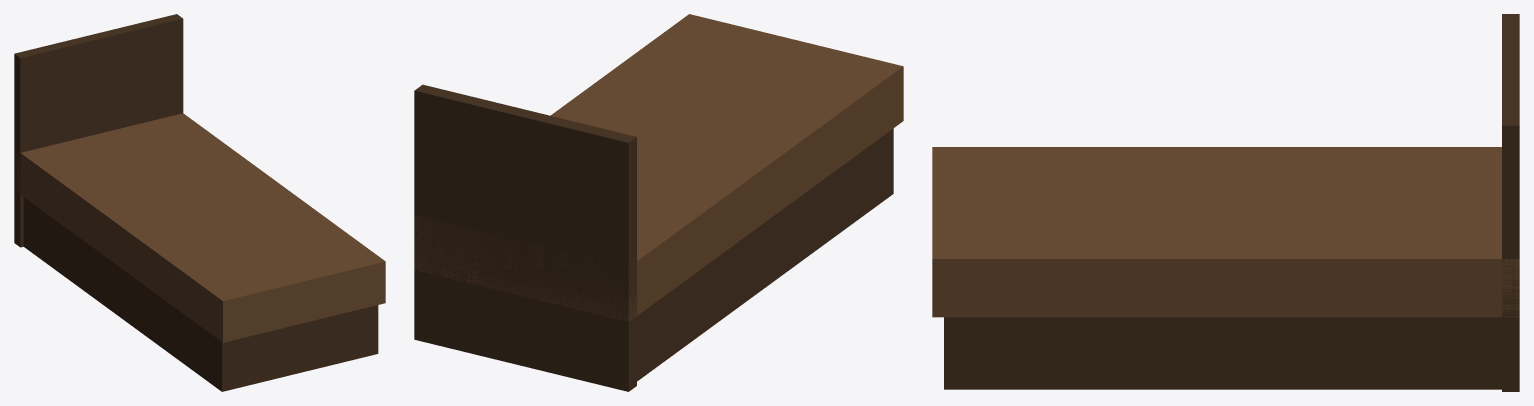
File: bed_single_wood_s.glb
3 renders of one model, left to right at view 1: azimuth 30°, elevation 25°; view 2: azimuth 150°, elevation 25°; view 3: azimuth 270°, elevation 25°, orthographic. The views are drawn at different scales.
Parts seen in each view (by area): view 1: furniture; view 2: furniture; view 3: furniture.
Boxes of the visible parts, x1=… form: furniture: x1=14, y1=14, x2=385, y2=391; furniture: x1=414, y1=14, x2=903, y2=391; furniture: x1=932, y1=14, x2=1519, y2=391.
Size of the model in its own units: 0.9 by 1 by 2.
